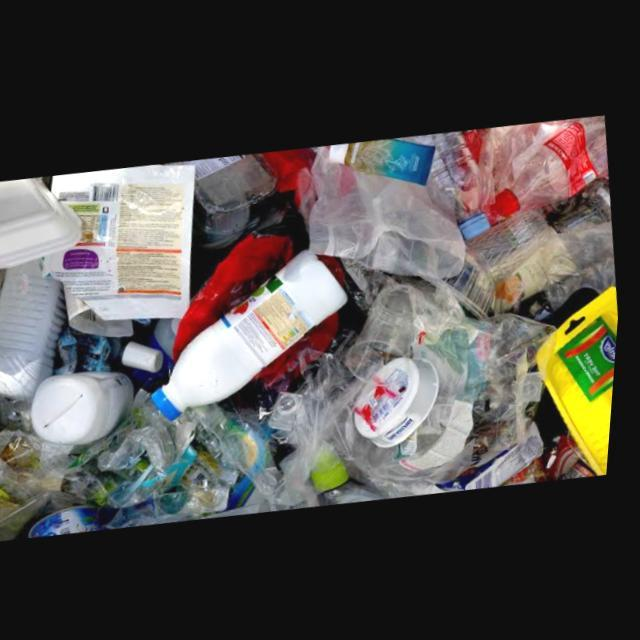metal: (31, 503, 116, 539)
plastic: (262, 281, 561, 508), (157, 247, 352, 421), (306, 144, 470, 278), (540, 282, 623, 473), (498, 112, 611, 214), (0, 257, 72, 396), (356, 353, 446, 445), (418, 130, 494, 236), (36, 370, 142, 442), (350, 284, 425, 380), (332, 136, 439, 184)
styrofoam: (0, 177, 81, 270)
wrapper: (49, 160, 198, 320)
